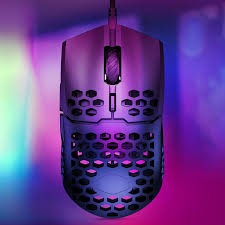mouse: (55, 20, 169, 222)
